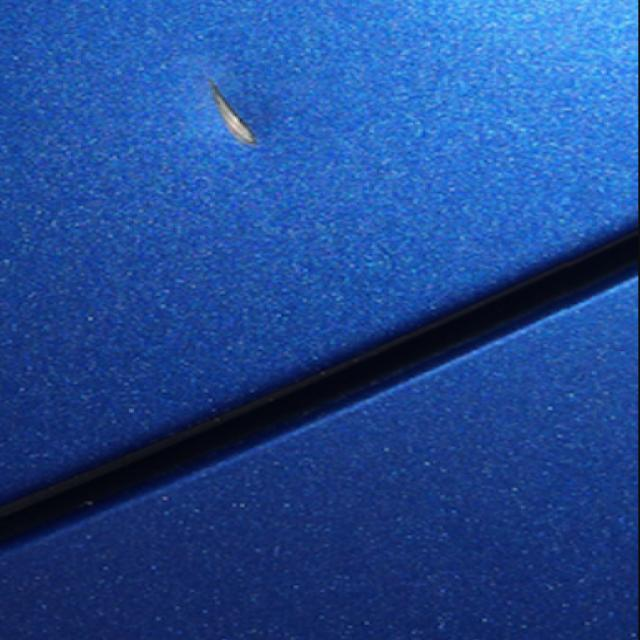dents: (167, 71, 356, 171)
